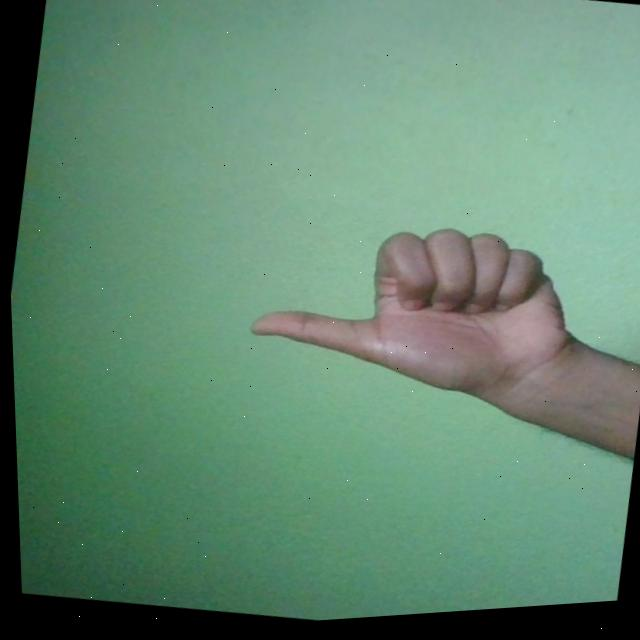Good Job: (238, 196, 597, 427)
